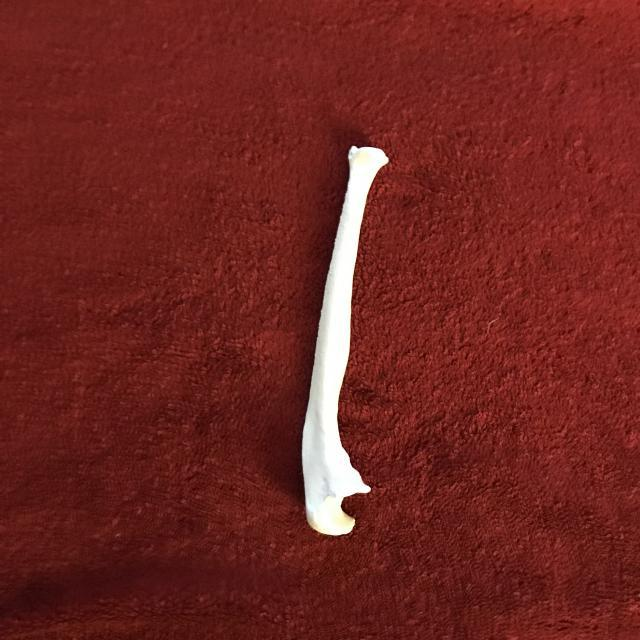bone: (292, 143, 404, 540)
